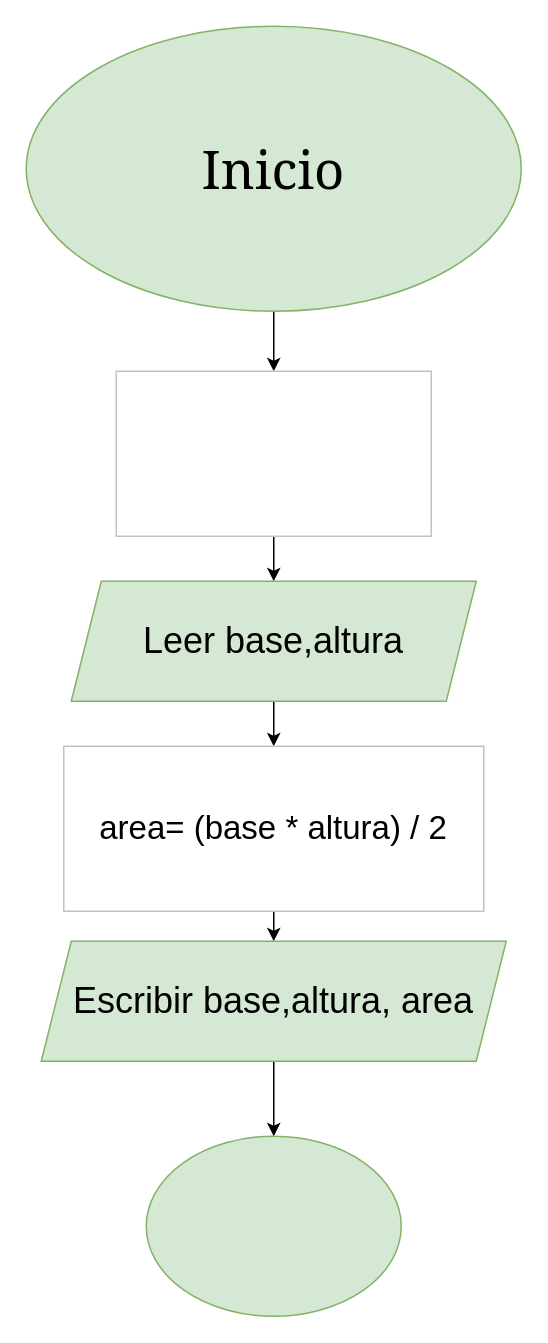
The diagram is 548 pixels wide and 1343 high, and some of its shapes have lost their labels. The centre of each missing label's shape, as x and y in pixels:
"base: int altura: int area: float" goes at [273,453].
"Fin" goes at [273,1225].
